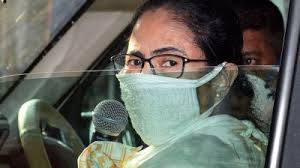mask: (106, 21, 233, 147)
